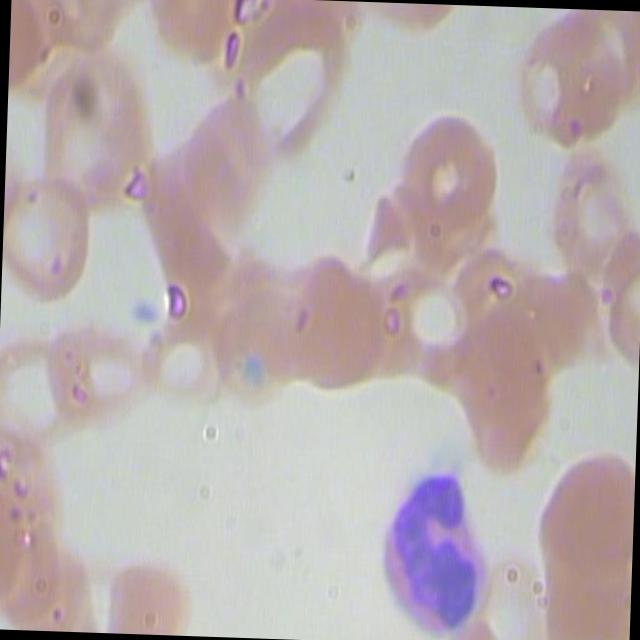RBC: (394, 93, 509, 240), (517, 7, 632, 152), (460, 312, 560, 478), (1, 162, 110, 304), (39, 294, 147, 436), (528, 142, 636, 284), (175, 92, 282, 234), (282, 248, 388, 390), (533, 445, 636, 583), (138, 300, 230, 414), (102, 544, 193, 634)
WBC: (358, 459, 499, 633)
